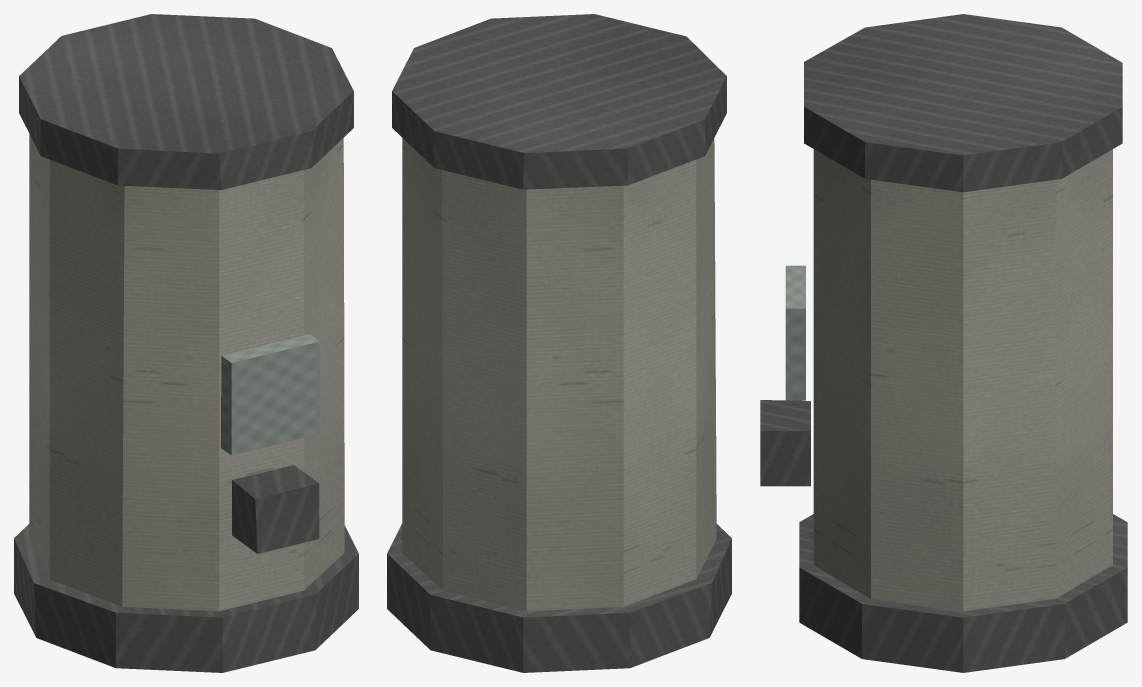
Rendered from coffeemachine_v2.glb.
The picture shows the model from 3 angles, left to right: view 1: azimuth 30°, elevation 25°; view 2: azimuth 150°, elevation 25°; view 3: azimuth 270°, elevation 25°; orthographic projection.
Parts seen in each view (by area): view 1: Variant_coffeemachine_2; view 2: Variant_coffeemachine_2; view 3: Variant_coffeemachine_2.
Part boxes in pixels (x1,y1,x2,y2): Variant_coffeemachine_2: (14,14,358,672); Variant_coffeemachine_2: (387,14,731,672); Variant_coffeemachine_2: (760,14,1127,672).
Size of the model in its own units: 0.3428 by 0.56 by 0.3617.
Materials: 3 (3 with a texture image).
